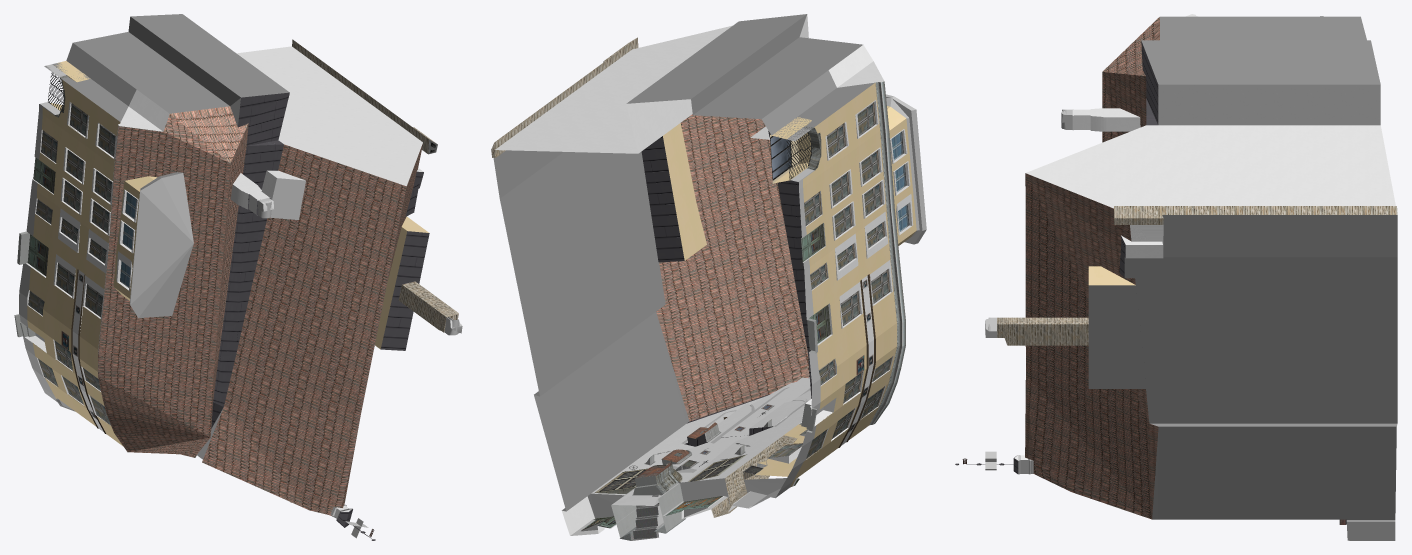
Rendered from Vanaturu_Kael_3-origo.obj.
The picture shows the model from 3 angles, left to right: view 1: azimuth 30°, elevation 25°; view 2: azimuth 150°, elevation 25°; view 3: azimuth 270°, elevation 25°; orthographic projection. The views are drawn at different scales.
Visible parts, largest first — view 1: Vanaturu_kael_3; view 2: Vanaturu_kael_3; view 3: Vanaturu_kael_3.
Boxes of the visible parts, x1,y1,x2,y2 form: Vanaturu_kael_3: (14,14,462,540); Vanaturu_kael_3: (491,14,926,540); Vanaturu_kael_3: (955,14,1397,540).
Size of the model in its own units: 21.19 by 29 by 25.94.
